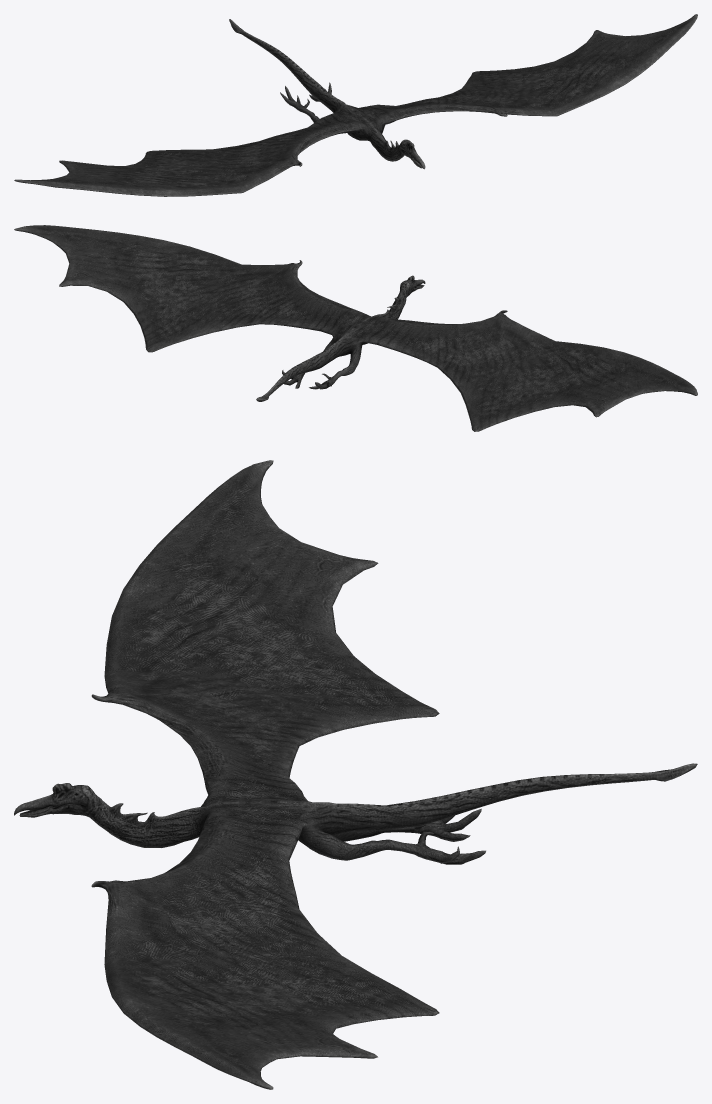
Rendered from Fellbeast_FlyAnim_19.obj.
3 views of the same model, one above another, from view 1: azimuth 30°, elevation 25°; view 2: azimuth 150°, elevation 25°; view 3: azimuth 270°, elevation 25° (orthographic). The views are drawn at different scales.
Parts seen in each view (by area): view 1: Fellbeast; view 2: Fellbeast; view 3: Fellbeast.
Boxes of the visible parts, box(x1,y1,x2,y2) form: Fellbeast: box(14, 14, 697, 196); Fellbeast: box(14, 225, 697, 431); Fellbeast: box(14, 460, 697, 1089).
Size of the model in its own units: 9.48 by 0.6554 by 4.37.
